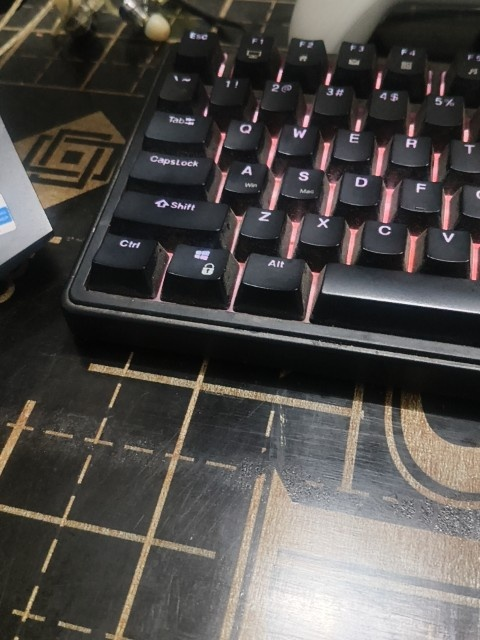keyboard: (37, 12, 479, 384)
